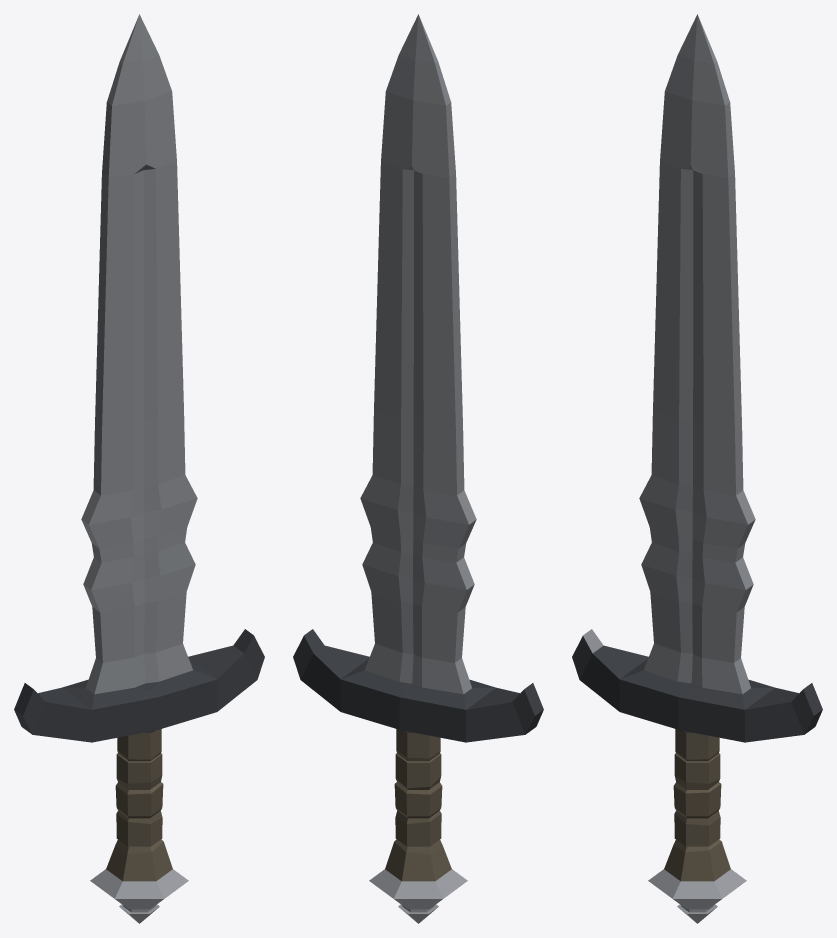
Rendered from BroadSword_B.glb.
3 views of the same model, side by side, from view 1: azimuth 30°, elevation 25°; view 2: azimuth 150°, elevation 25°; view 3: azimuth 330°, elevation 25° (orthographic).
Visible parts, largest first — view 1: BroadSword_B; view 2: BroadSword_B; view 3: BroadSword_B.
Part boxes in pixels (box(x1,y1,x2,y2)): BroadSword_B: box(14, 14, 264, 923); BroadSword_B: box(293, 14, 543, 923); BroadSword_B: box(572, 14, 822, 923).
Size of the model in its own units: 9328 by 33524 by 3311.
1 material, 1 textured.
